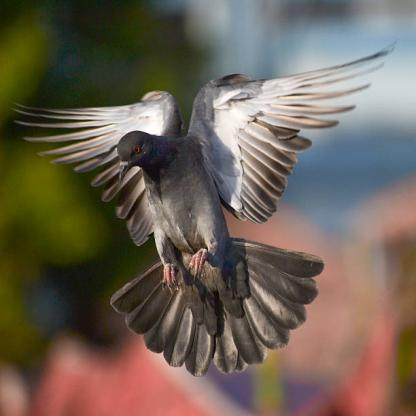Rock Pigeon: (101, 122, 266, 356)
